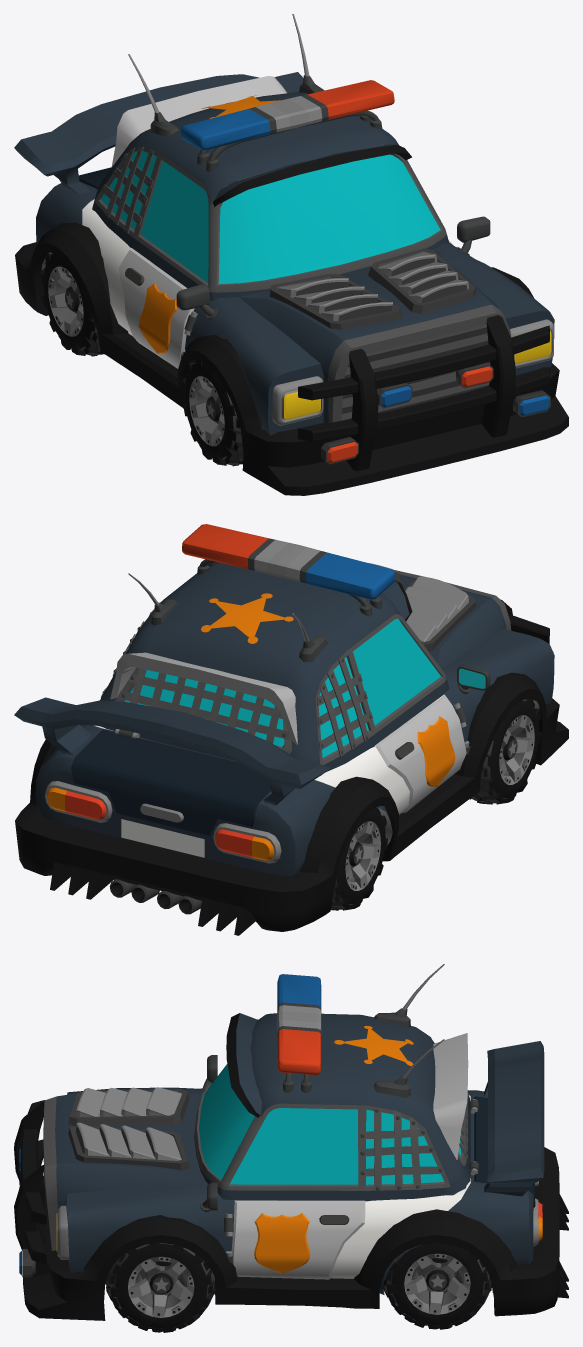
Rendered from VEH5-C.fbx.
3 views of the same model, one above another, from view 1: azimuth 30°, elevation 25°; view 2: azimuth 150°, elevation 25°; view 3: azimuth 270°, elevation 25° (orthographic). The views are drawn at different scales.
Visible parts, largest first — view 1: VEH5_C, V5C_BodyParts, V5C_Wheel_FR, V5C_Wheel_BR; view 2: VEH5_C, V5C_BodyParts, V5C_Wheel_FR, V5C_Wheel_BR; view 3: VEH5_C, V5C_Wheel_FL, V5C_Wheel_BL, V5C_BodyParts.
Part boxes in pixels (x1,y1,x2,y2): VEH5_C: (14, 14, 568, 495); V5C_BodyParts: (181, 80, 550, 464); V5C_Wheel_FR: (182, 360, 243, 466); V5C_Wheel_BR: (41, 252, 104, 356); VEH5_C: (14, 559, 568, 935); V5C_BodyParts: (182, 524, 395, 599); V5C_Wheel_FR: (469, 698, 541, 804); V5C_Wheel_BR: (331, 808, 387, 910); VEH5_C: (14, 964, 568, 1320); V5C_Wheel_FL: (106, 1243, 215, 1332); V5C_Wheel_BL: (383, 1243, 491, 1329); V5C_BodyParts: (19, 974, 321, 1277).
Size of the model in its own units: 270 by 233 by 441.
Materials: 1 (1 with a texture image).
